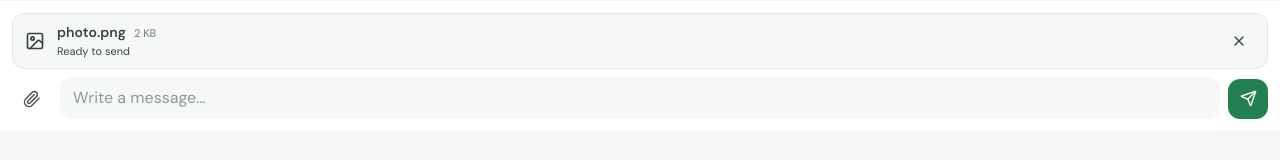
it: MessageComposer - attachments › choosing a file › removing a ready attachment discards it on the server
Earlier steps of the test are not shown.
Check: the button named "Attach an image, PDF or Excel file" is shown, box [12, 79, 52, 119]
Check: the text "Ready to send" is shown, box [57, 44, 130, 58]
Click the button named "Remove attachment".
click(1239, 41)  # box [1223, 25, 1255, 57]
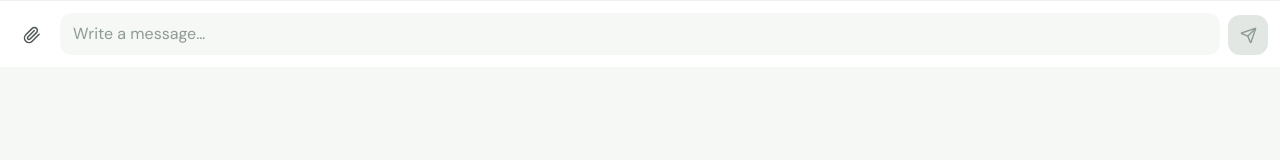
Check: the element with test id "attachment-chip" is gone
